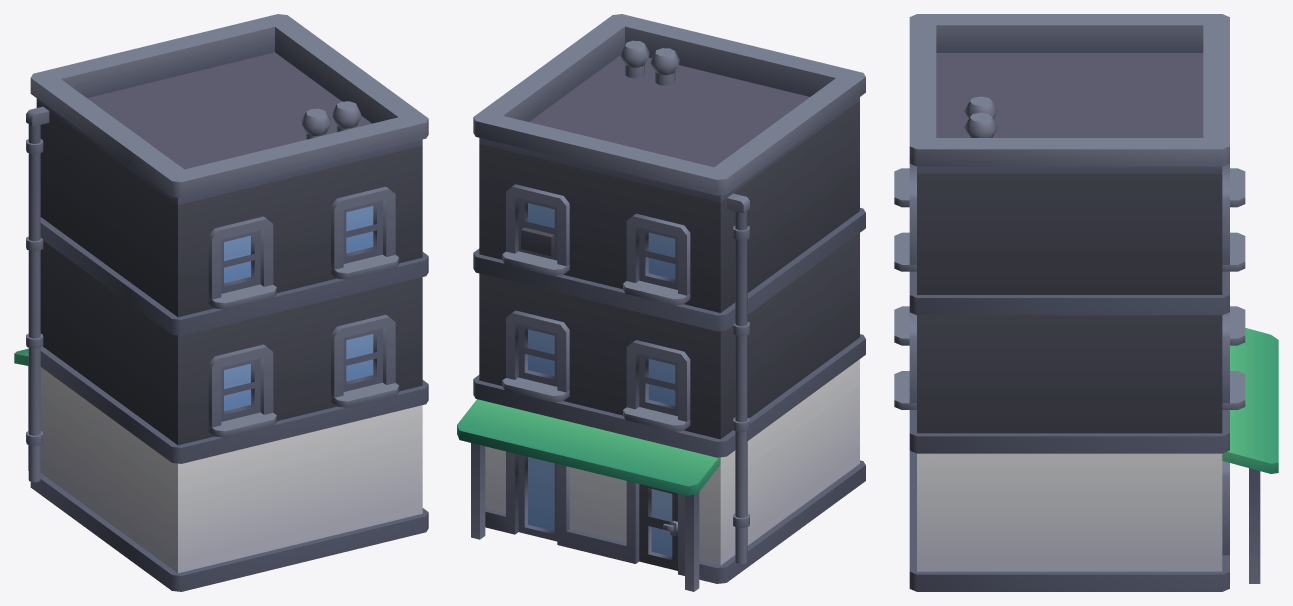
Rendered from building-h.glb.
The picture shows the model from 3 angles, left to right: view 1: azimuth 30°, elevation 25°; view 2: azimuth 150°, elevation 25°; view 3: azimuth 270°, elevation 25°; orthographic projection. The views are drawn at different scales.
Visible parts, largest first — view 1: building-h; view 2: building-h; view 3: building-h.
Part boxes in pixels (bbox=[...]): building-h: bbox=[14, 14, 428, 591]; building-h: bbox=[457, 14, 865, 591]; building-h: bbox=[894, 14, 1278, 591].
Size of the model in its own units: 0.8835 by 1.29 by 1.01.
Materials: 1 (1 with a texture image).
